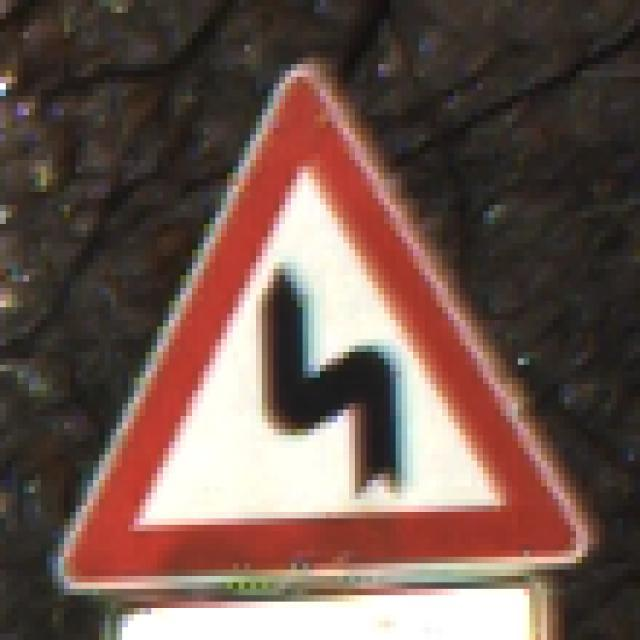left reverse bend: (41, 51, 599, 591)
